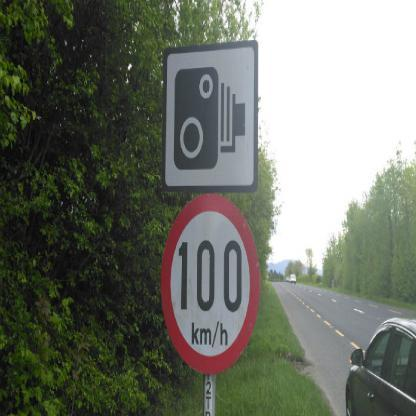Speed Limit 100: (166, 198, 257, 369)
